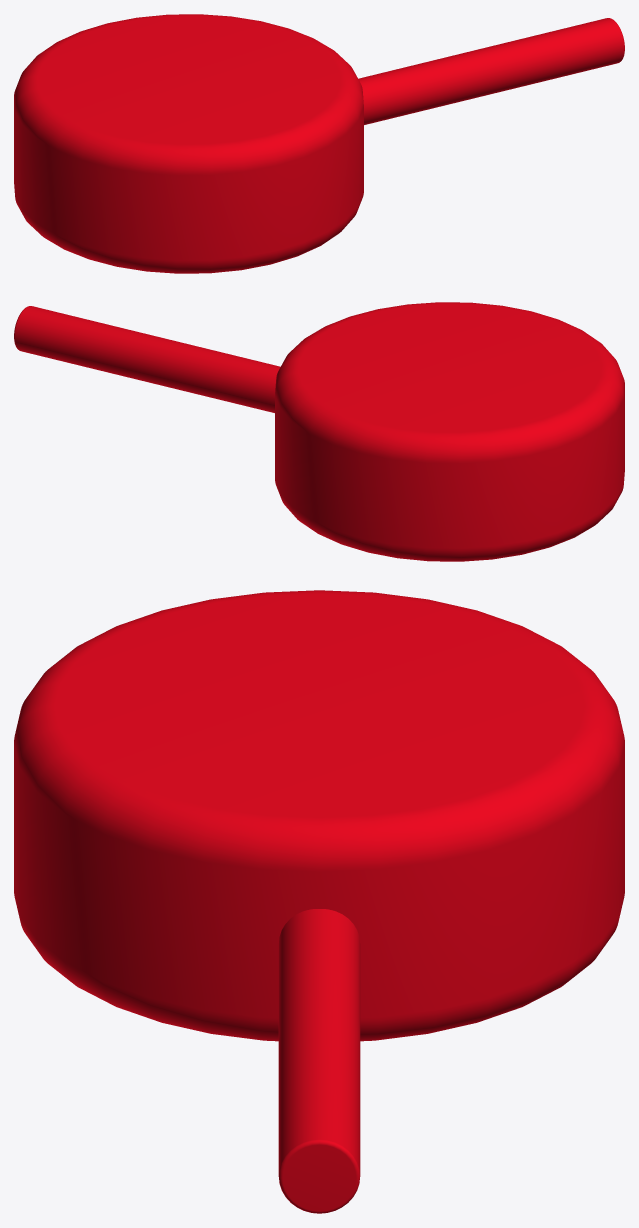
File: enemy_head.dae
3 renders of one model, top to bottom at view 1: azimuth 30°, elevation 25°; view 2: azimuth 150°, elevation 25°; view 3: azimuth 270°, elevation 25°, orthographic. The views are drawn at different scales.
Parts seen in each view (by area): view 1: EnemyHead, EnemyBarrel; view 2: EnemyHead, EnemyBarrel; view 3: EnemyHead, EnemyBarrel.
Part boxes in pixels (x1,y1,x2,y2): EnemyHead: (14,14,363,273); EnemyBarrel: (358,18,624,124); EnemyHead: (275,302,624,561); EnemyBarrel: (14,306,280,412); EnemyHead: (14,590,624,1041); EnemyBarrel: (278,909,360,1213).
Bounding box in the file's own units: 2.85 × 1.5 × 0.6.
